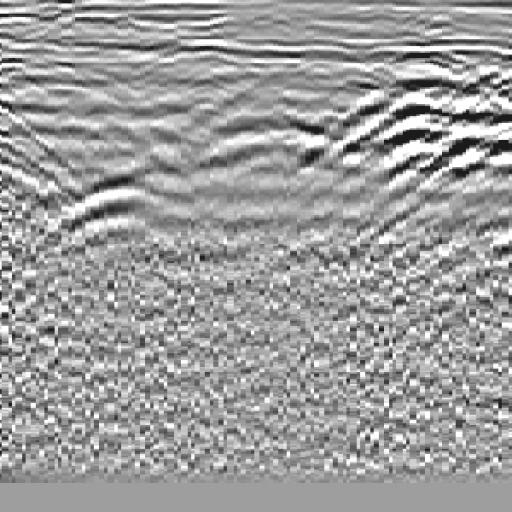metalic: (30, 165, 192, 270)
nonmetalic: (342, 33, 512, 246)
